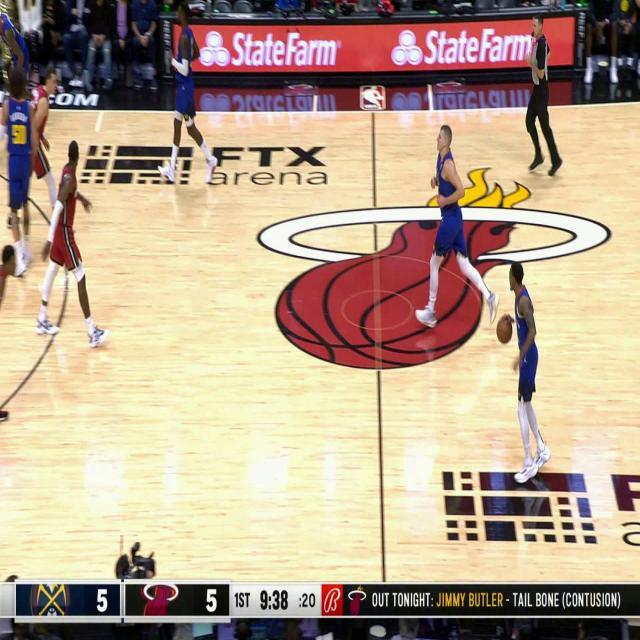rim: (497, 318, 512, 345)
